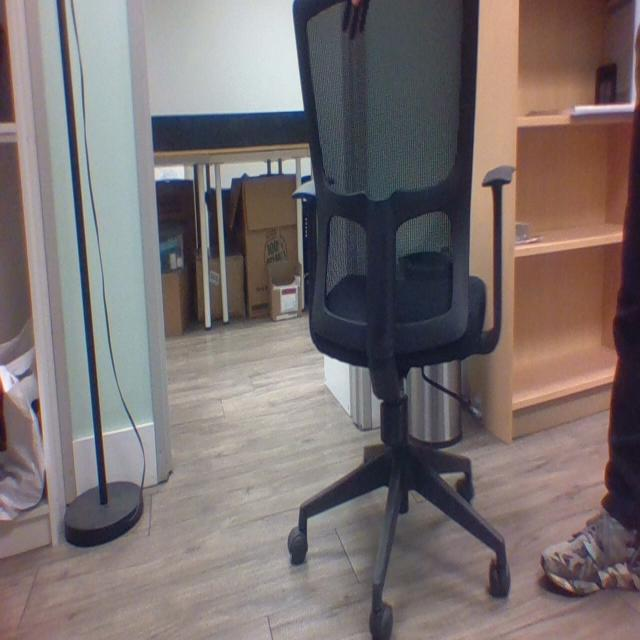black-chair: (290, 4, 518, 639)
